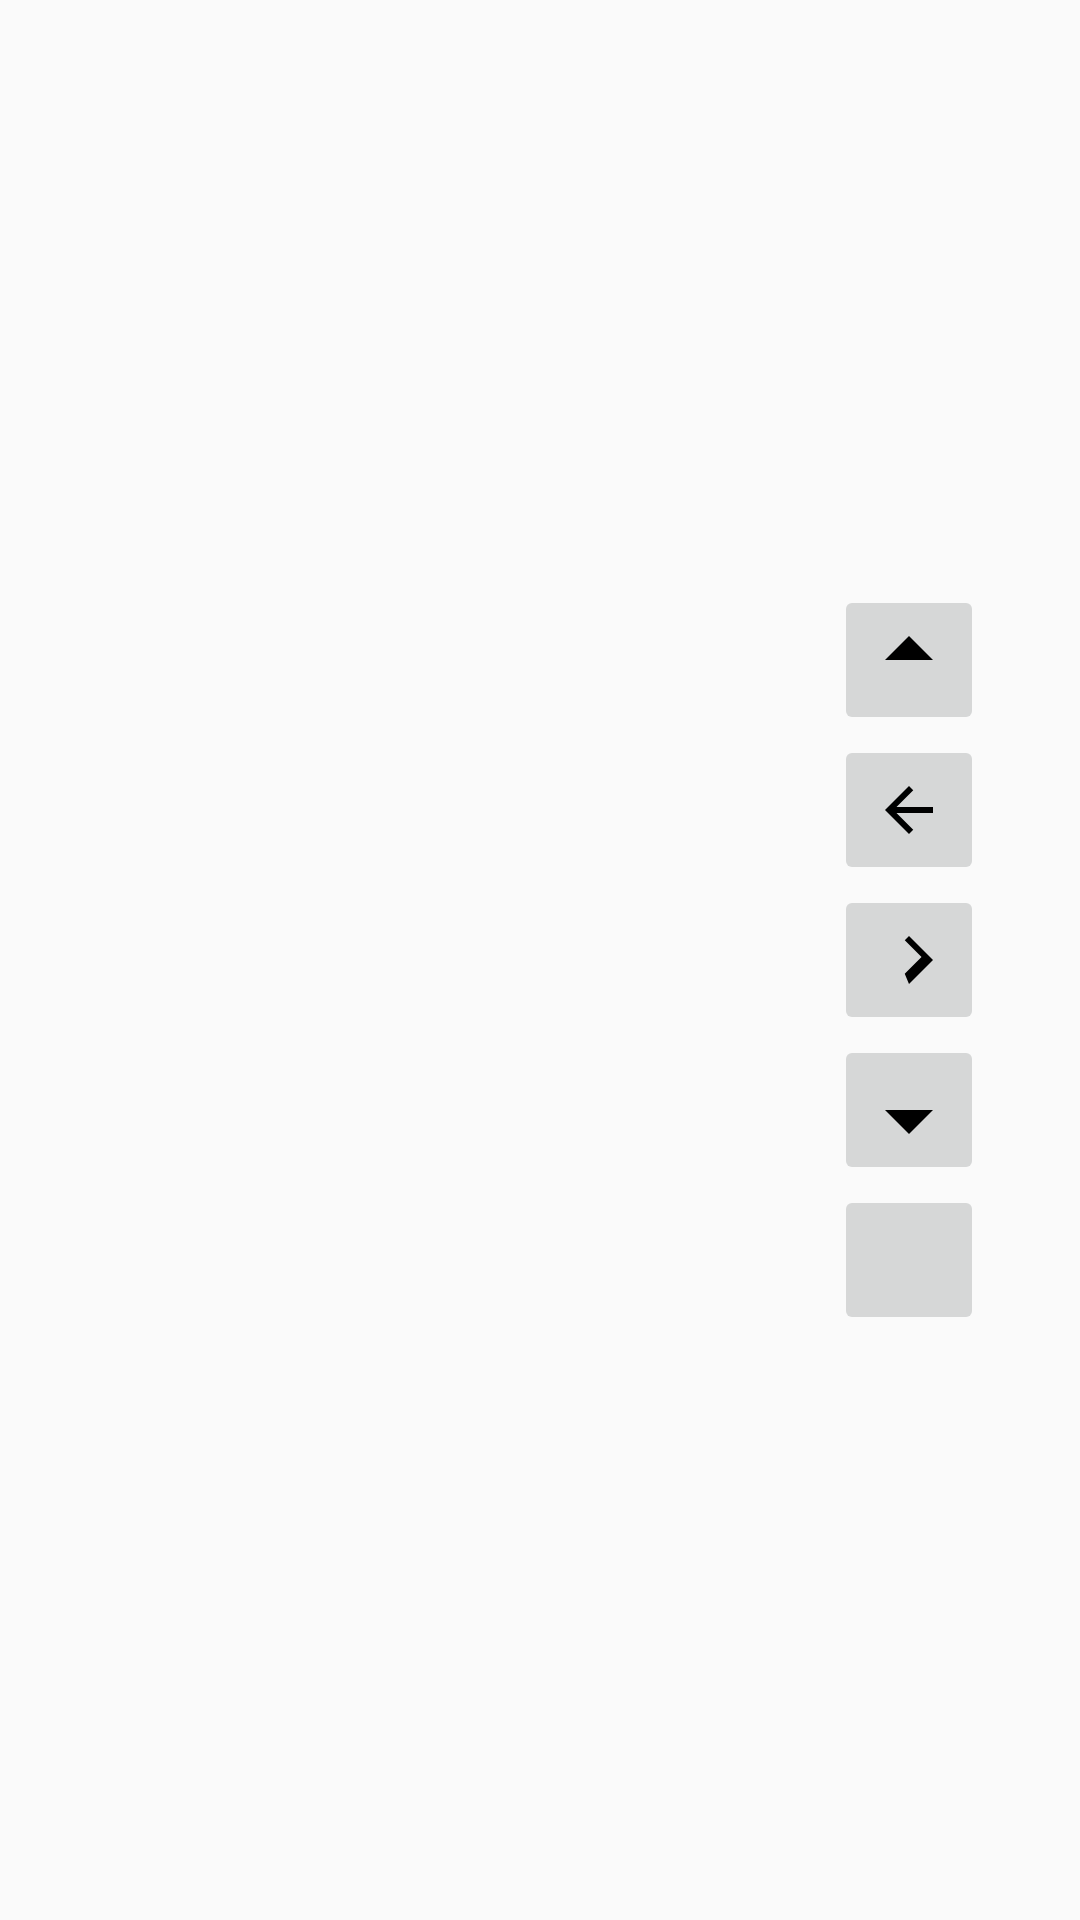

Named icons in this screenshot (1080 x 1920) and their centers, point (x, y):
down: point (909, 1110)
left: point (909, 810)
right: point (909, 960)
